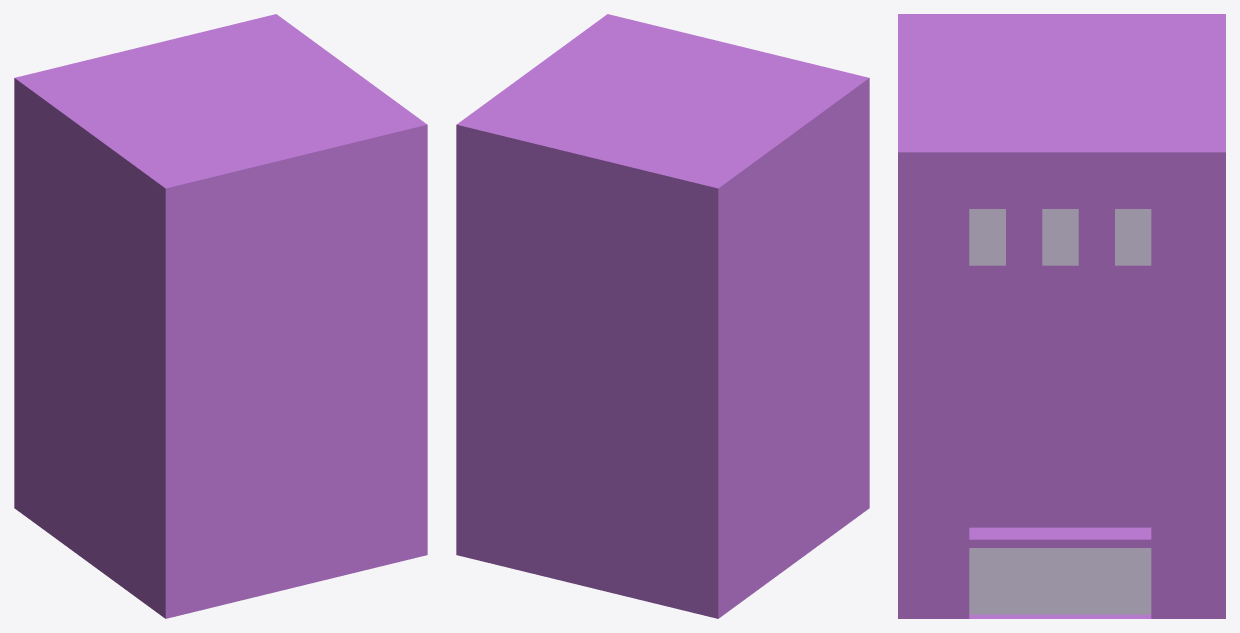
3 renders of one model, left to right at view 1: azimuth 30°, elevation 25°; view 2: azimuth 150°, elevation 25°; view 3: azimuth 270°, elevation 25°, orthographic. The views are drawn at different scales.
Visible parts, largest first — view 1: Cube; view 2: Cube; view 3: Cube, Cube.001, Cube.004, Cube.002, Cube.003.
Part boxes in pixels (x1,y1,x2,y2): Cube: [14, 14, 427, 618]; Cube: [456, 14, 869, 618]; Cube: [898, 14, 1225, 618]; Cube.001: [969, 548, 1151, 614]; Cube.004: [969, 209, 1151, 265]; Cube.002: [969, 527, 1151, 547]; Cube.003: [993, 614, 1139, 618].
Size of the model in its own units: 851 by 1228 by 782.
